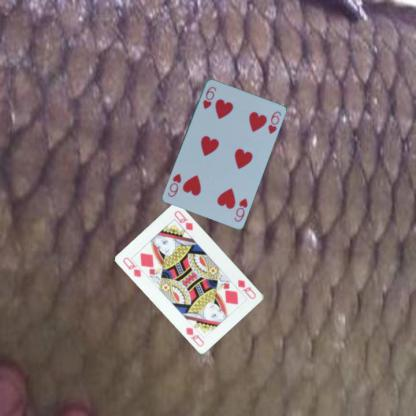6h: (232, 195, 249, 223), (200, 84, 217, 110)
Qd: (121, 255, 148, 278), (235, 277, 258, 300)
